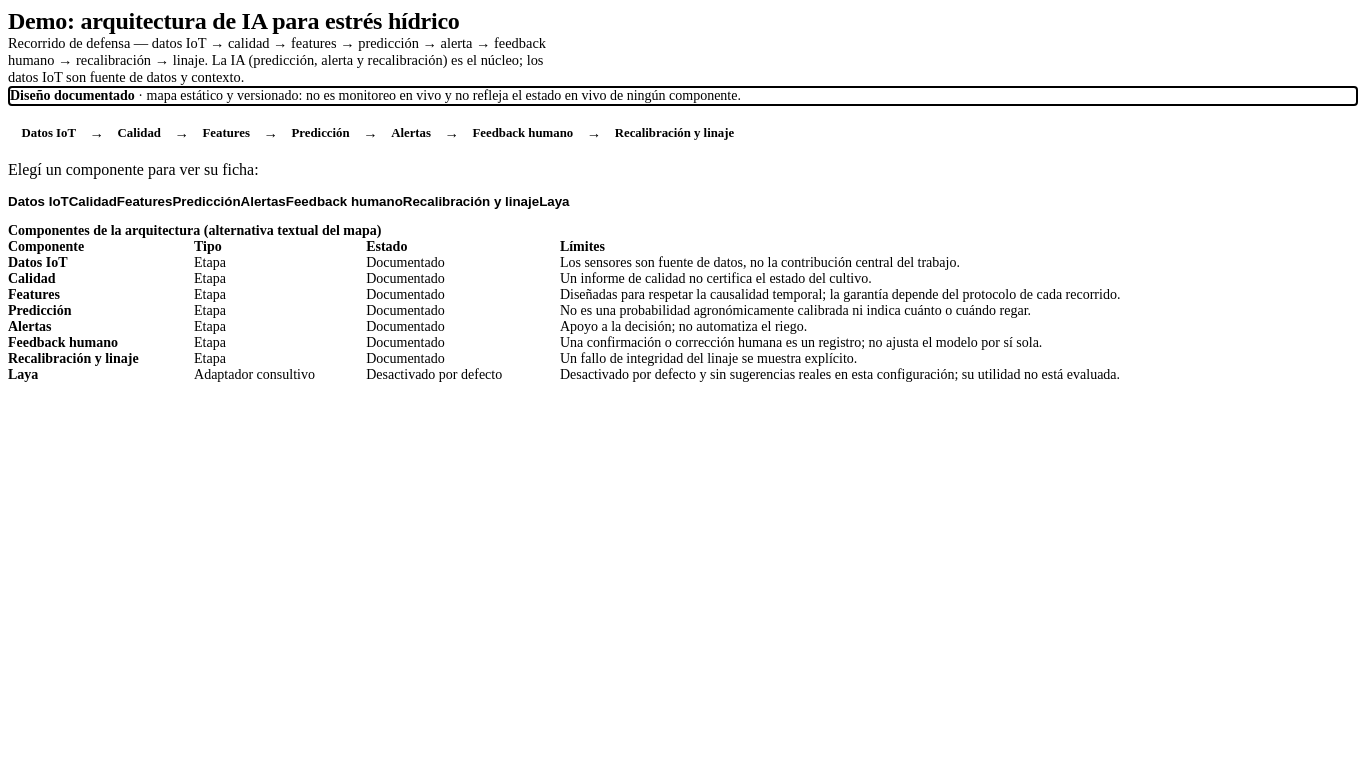
Test: ArchitectureFlow › shows the node sheet with responsibility, boundary, evidence and limits when selected
Click the button "Calidad" at (93, 201), box [69, 179, 117, 223]
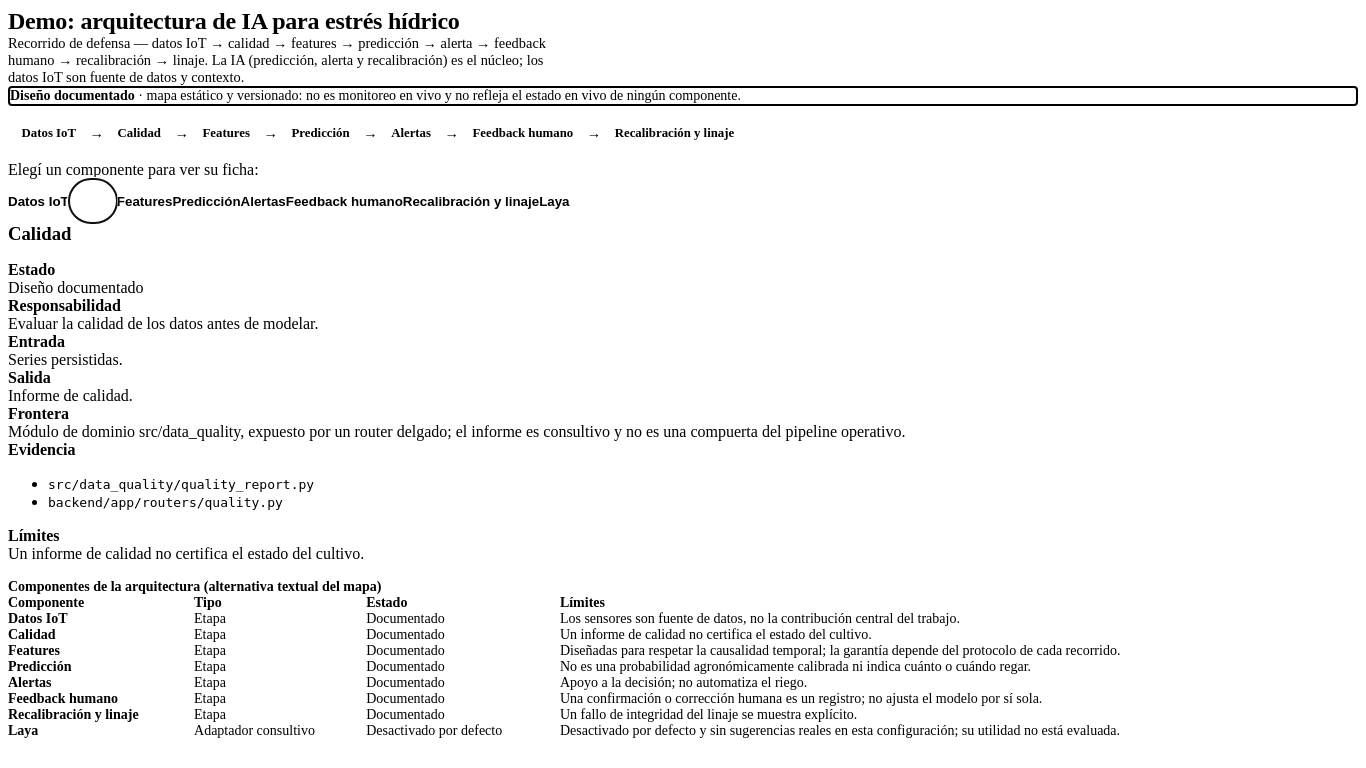
Check: the text "Responsabilidad" is shown, box [8, 297, 121, 314]
Check: the text "Entrada" is shown, box [8, 333, 65, 350]
Check: the text "Salida" is shown, box [8, 369, 51, 386]
